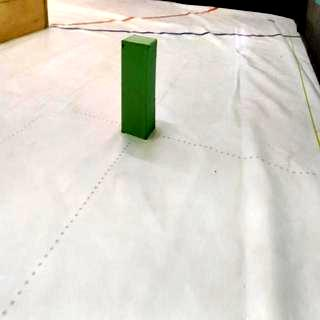greenbox: (120, 35, 158, 140)
